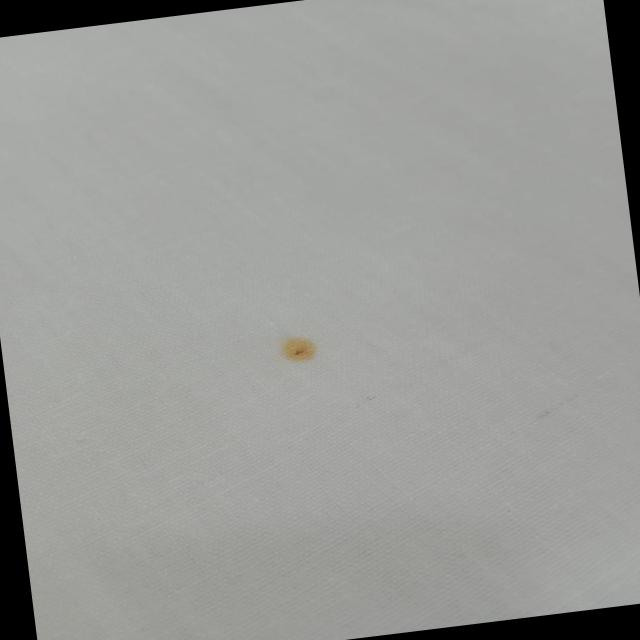stain: (270, 327, 328, 373)
